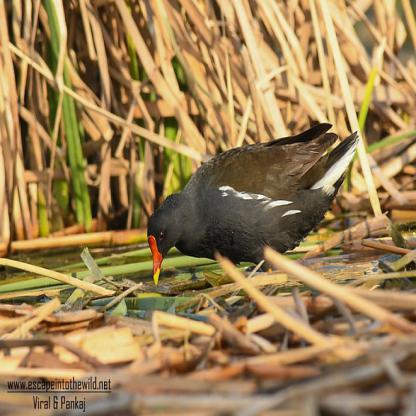Burung: (147, 124, 357, 286)
